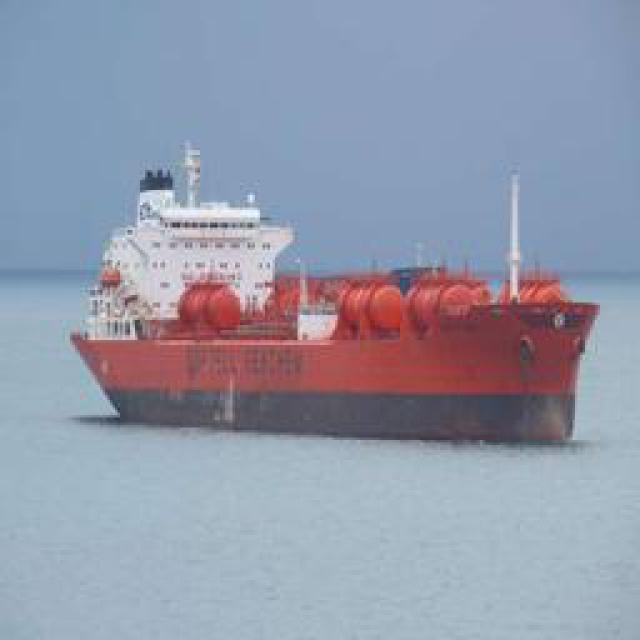Ship: (57, 166, 595, 431)
